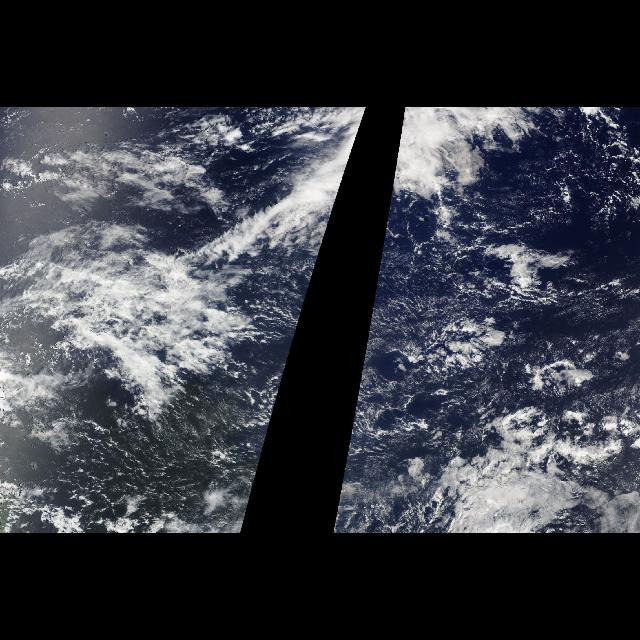Fish: (16, 108, 346, 434)
Flower: (444, 409, 640, 533)
Gravel: (52, 364, 246, 532), (362, 282, 528, 444), (531, 108, 639, 224)
